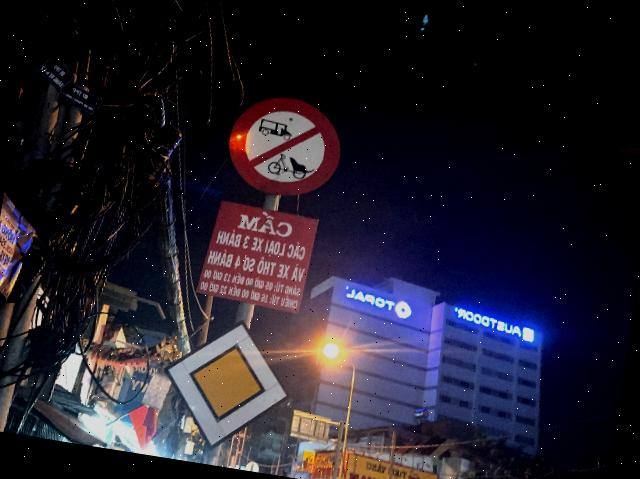bat-dau-duong-uu-tien: (151, 308, 301, 462)
cam-xe-3-banh-xe-tho-so-4-banh: (220, 89, 346, 202)
